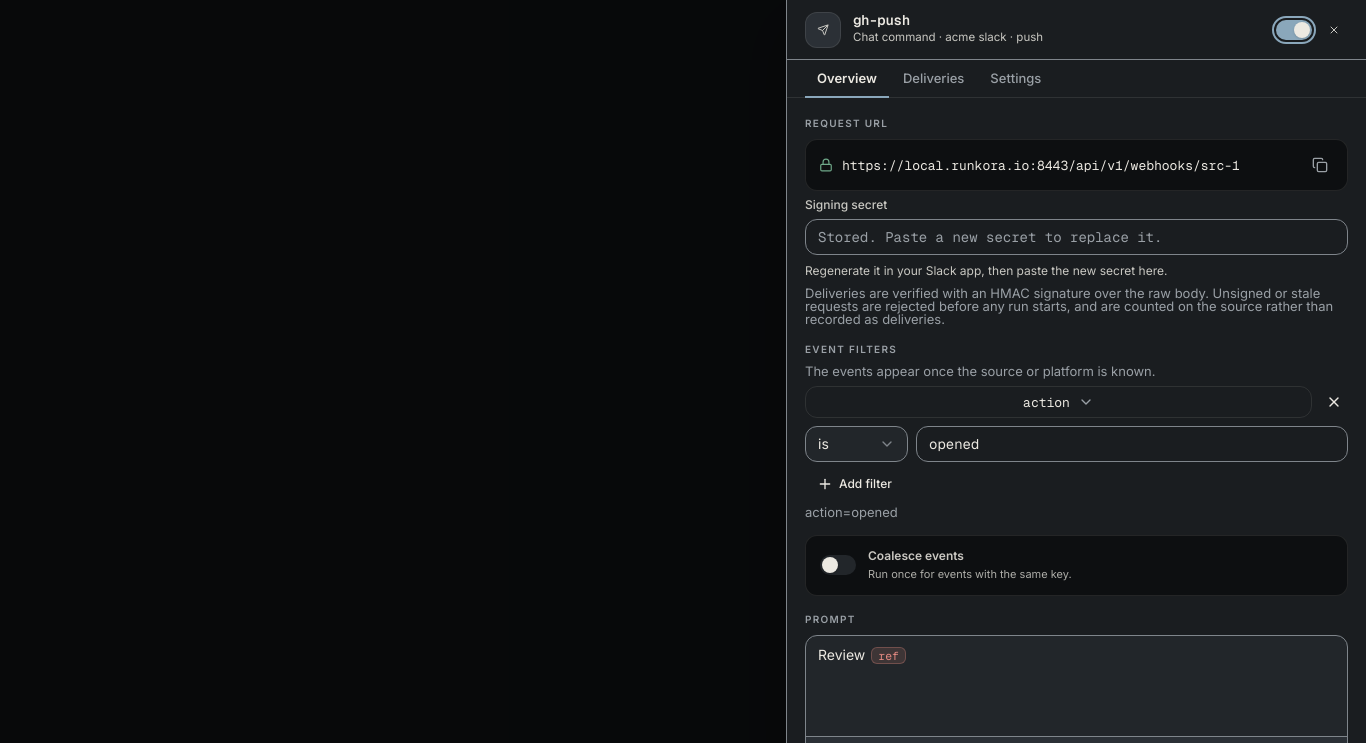
Test: a source whose provider issues the secret › asks for the new secret instead of generating one
Type " new-secret " into the password field labelled "Signing secret" at (1076, 237), box [805, 219, 1348, 255]
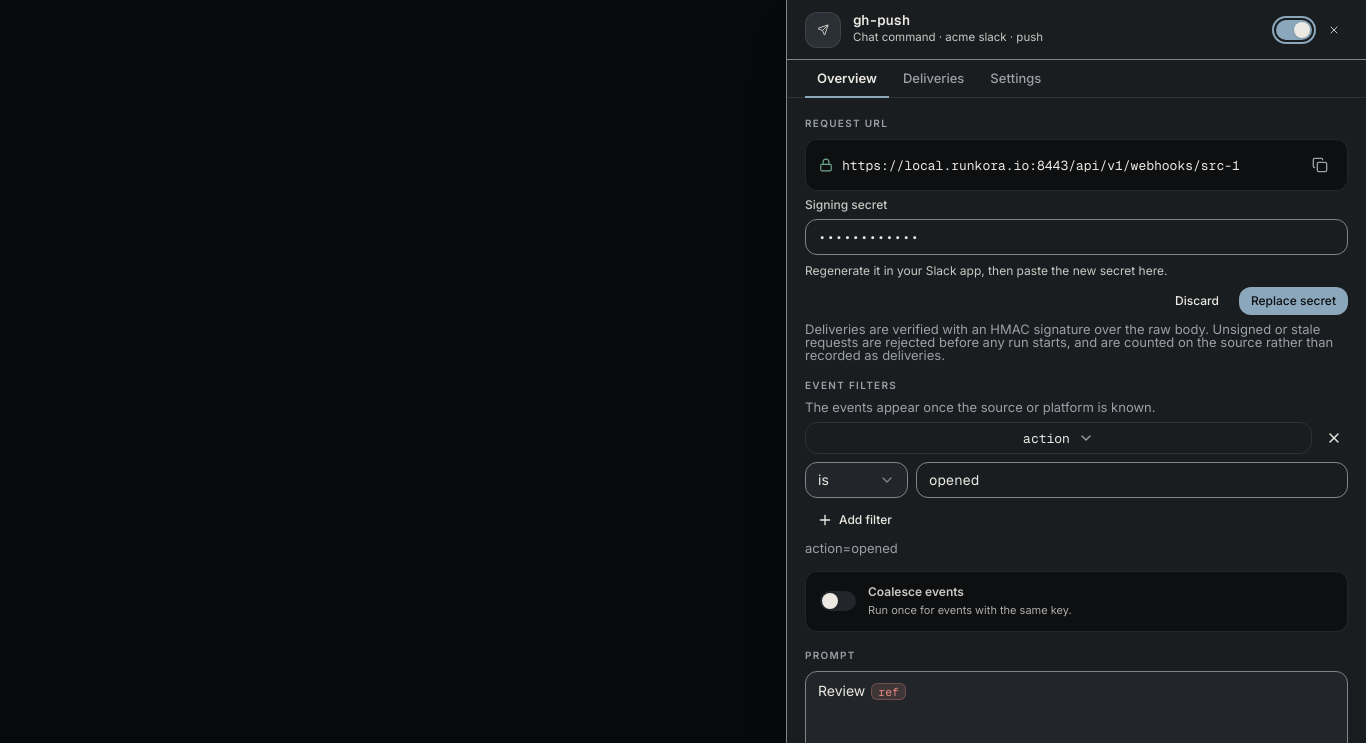
Click the button "Replace secret" at (1293, 301), box [1239, 287, 1348, 315]
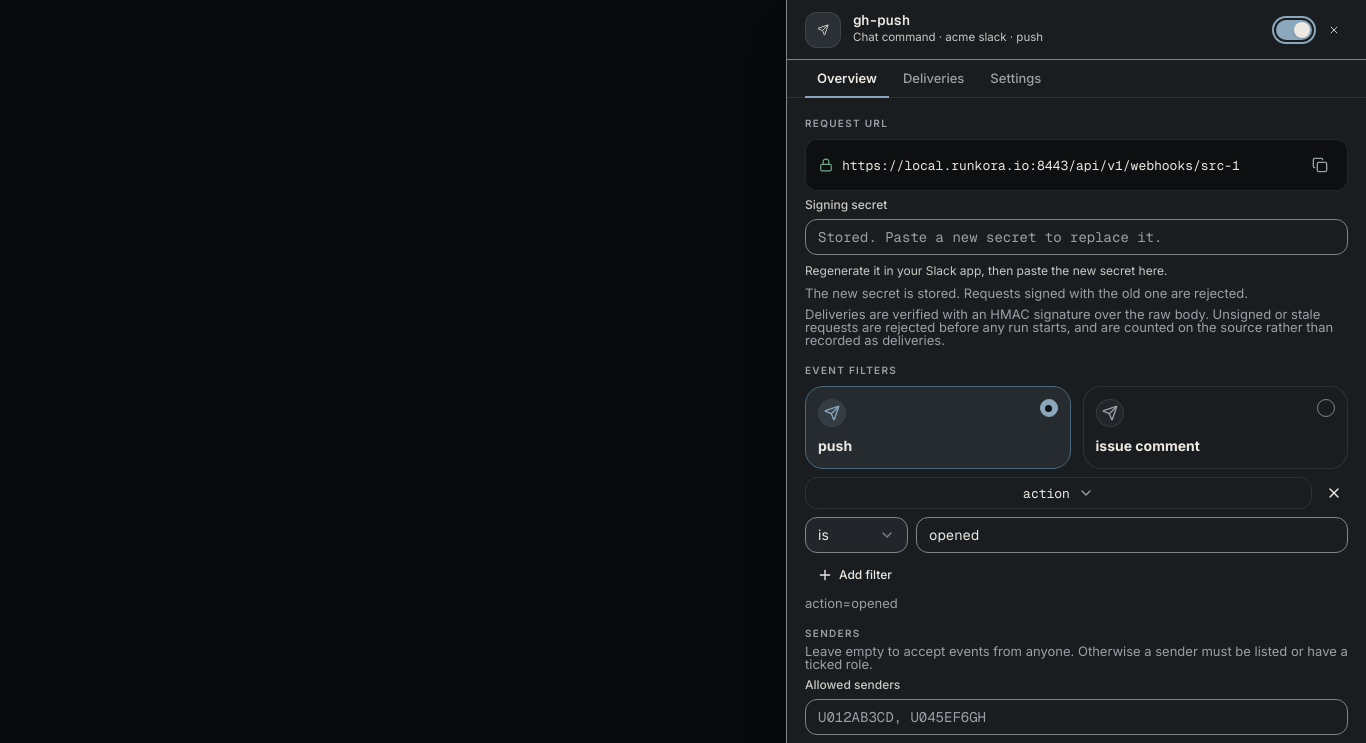
Check: the text "The new secret is stored" is shown, box [805, 285, 1248, 301]
Check: the password field labelled "Signing secret" is empty, box [805, 219, 1348, 255]
